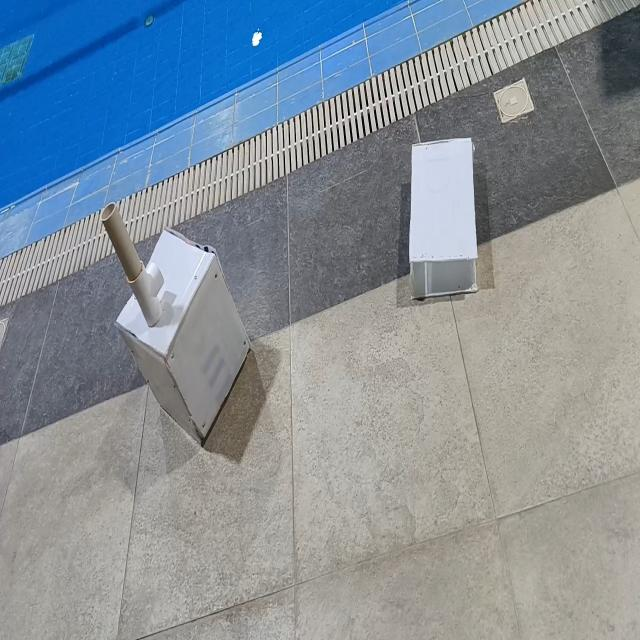Cube: (113, 225, 252, 446)
Cuboid: (408, 135, 479, 299)
